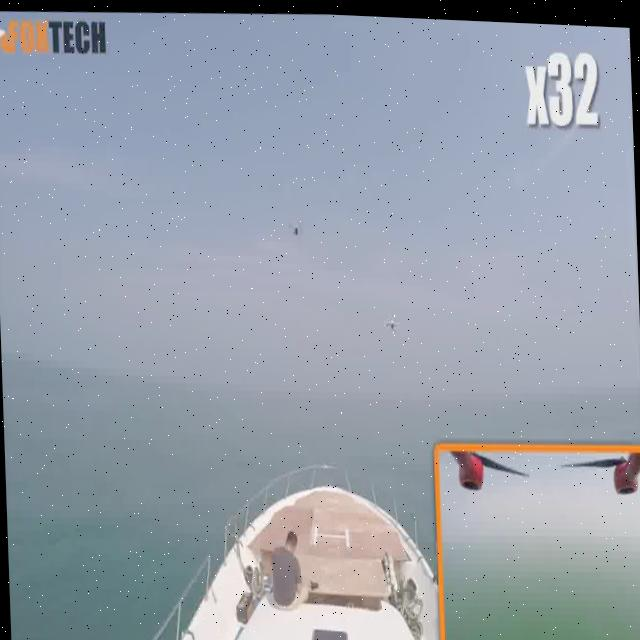drone: (280, 205, 308, 244), (381, 308, 402, 331)
